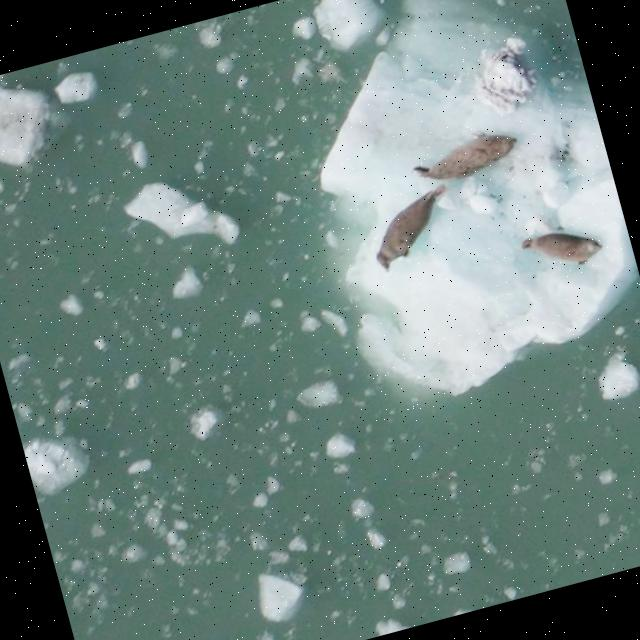seal: (411, 114, 521, 198), (367, 169, 451, 275), (518, 226, 603, 268)
